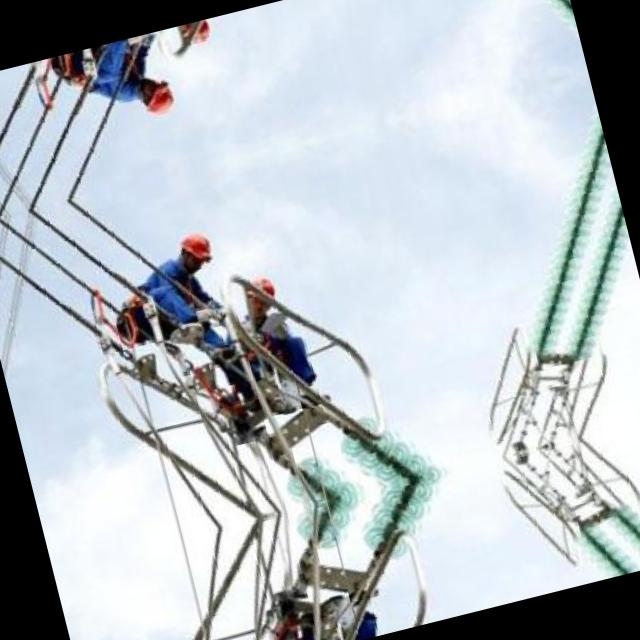helmet: (233, 264, 286, 324), (172, 223, 218, 274), (134, 70, 180, 121), (170, 17, 220, 56)
